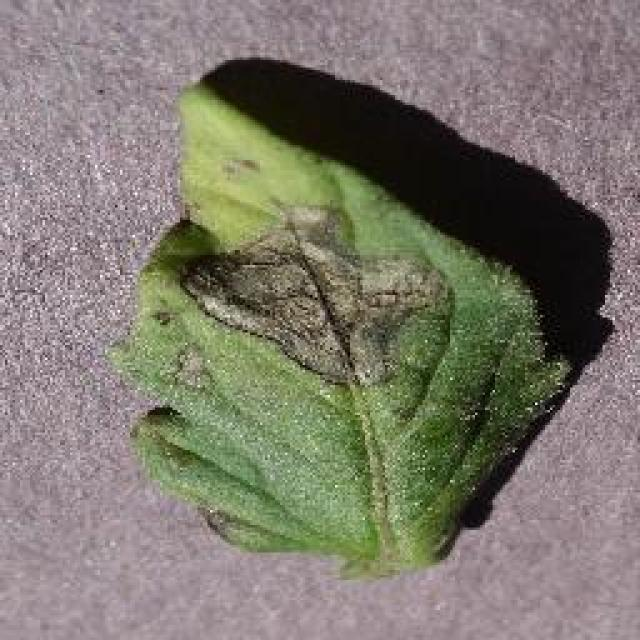Tomato Early blight leaf: (131, 84, 559, 591)
